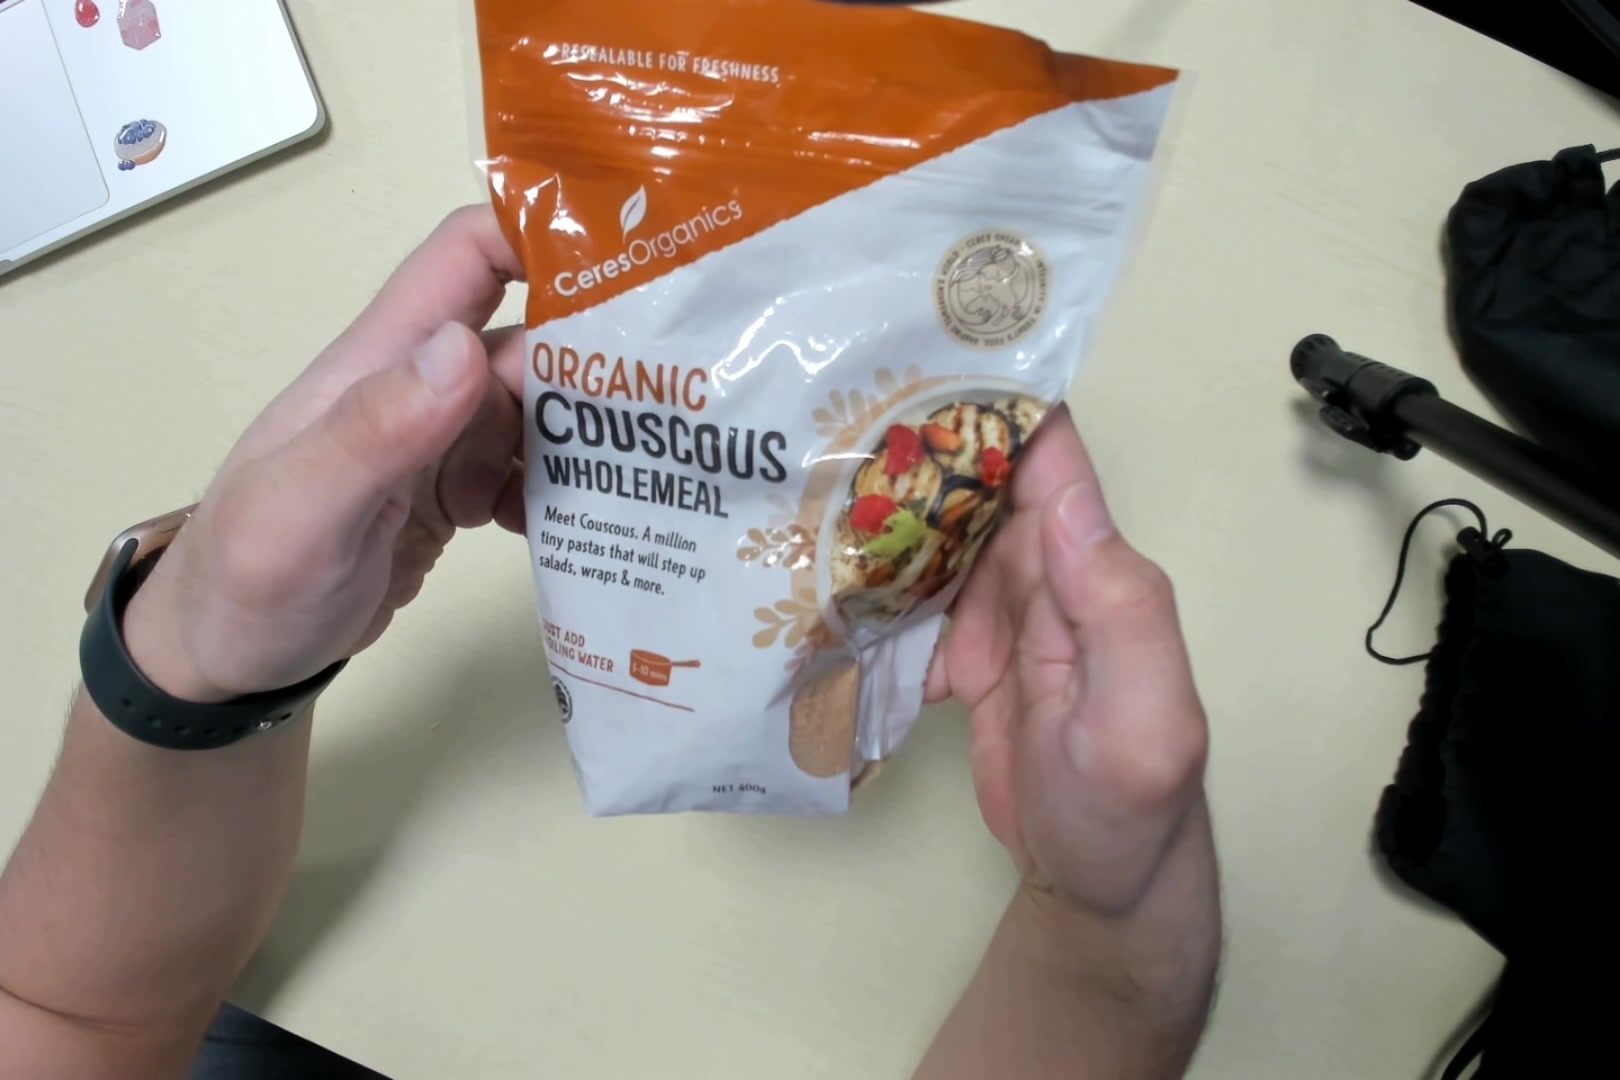Rice(BrownOthers)_300-399g_NonHalal_NonHealthy: (465, 1, 1170, 827)
